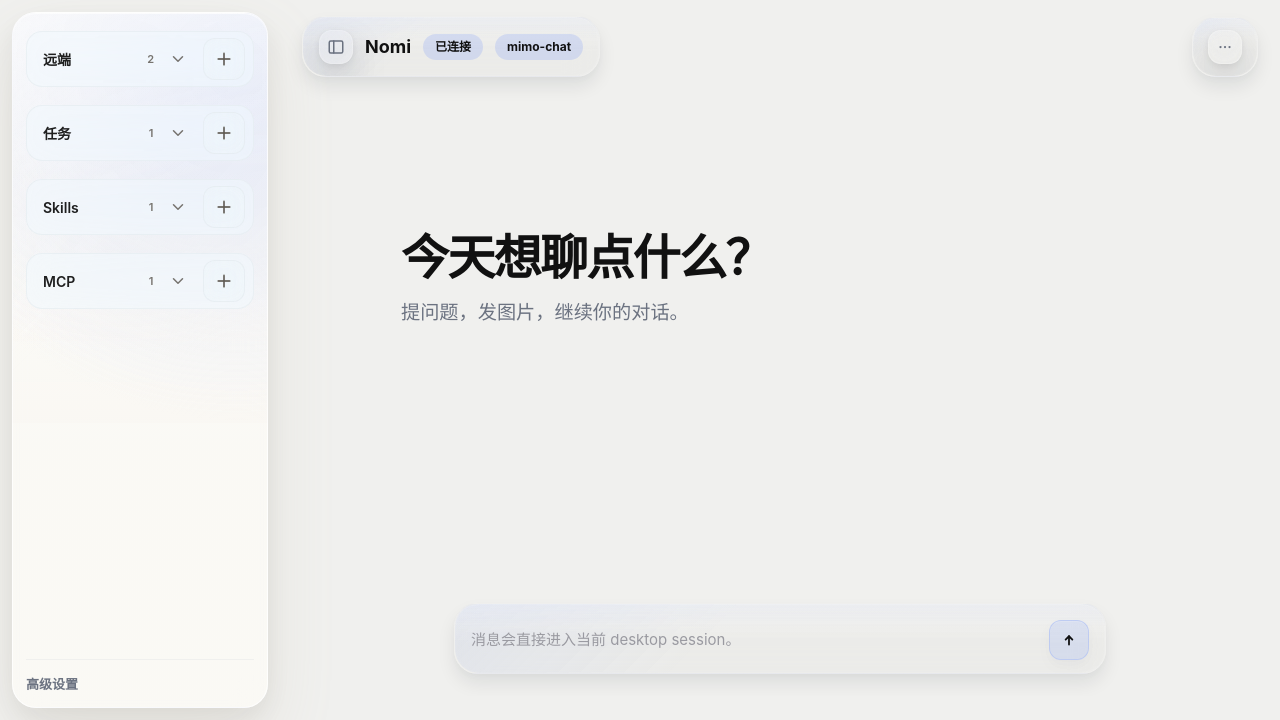
Test: MainShell HTTP resource actions › shows remote delete feedback through the unified top notification
Click the button "远端 2": (114, 59) [33,38,195,80]
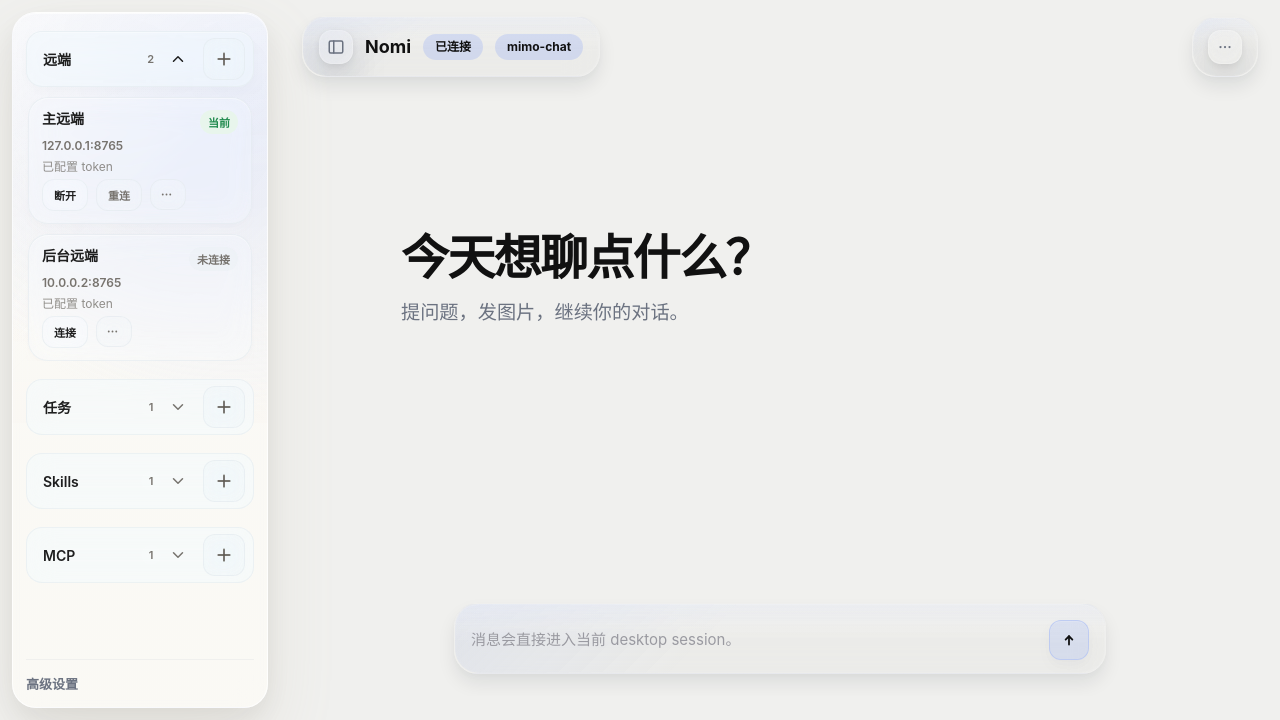
Result: the button "后台远端 未连接 10.0.0.2:8765 已配置 token 连接" is shown at [28,234,252,361]
Click the 2nd button named "更多操作": (114, 332) [96,316,132,347]
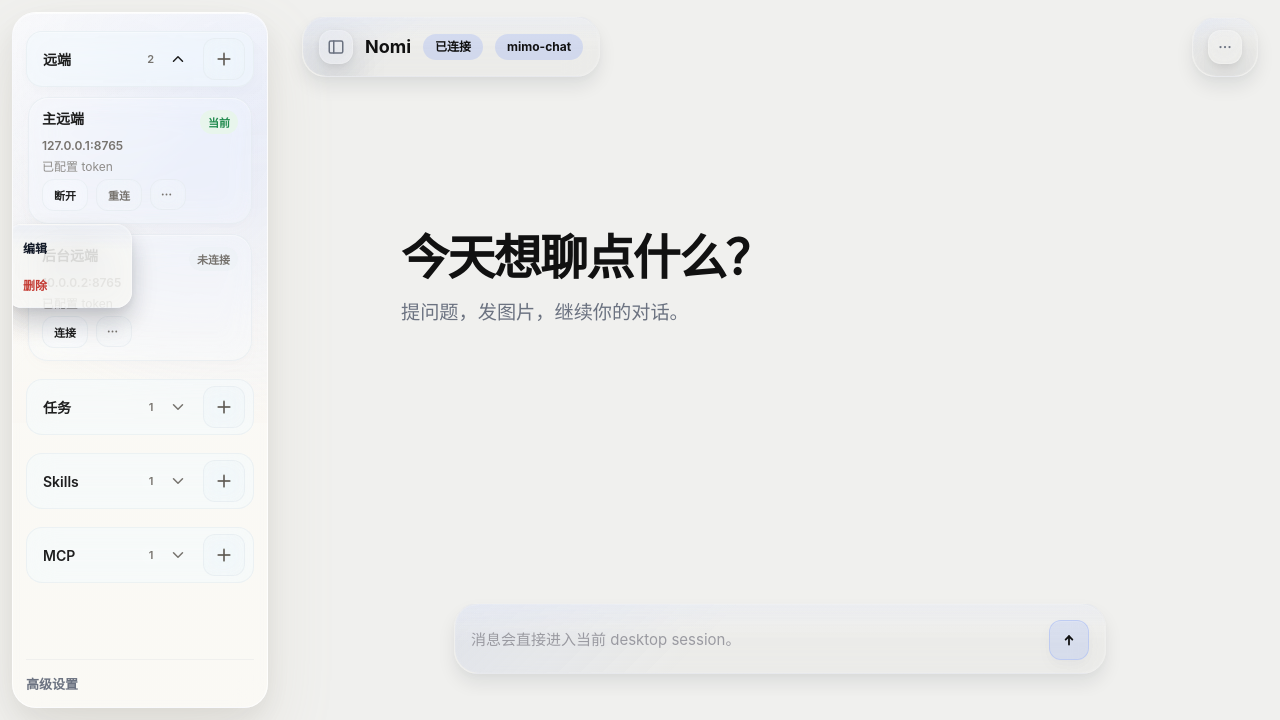
Click the button "删除": (69, 284) [13,268,125,301]
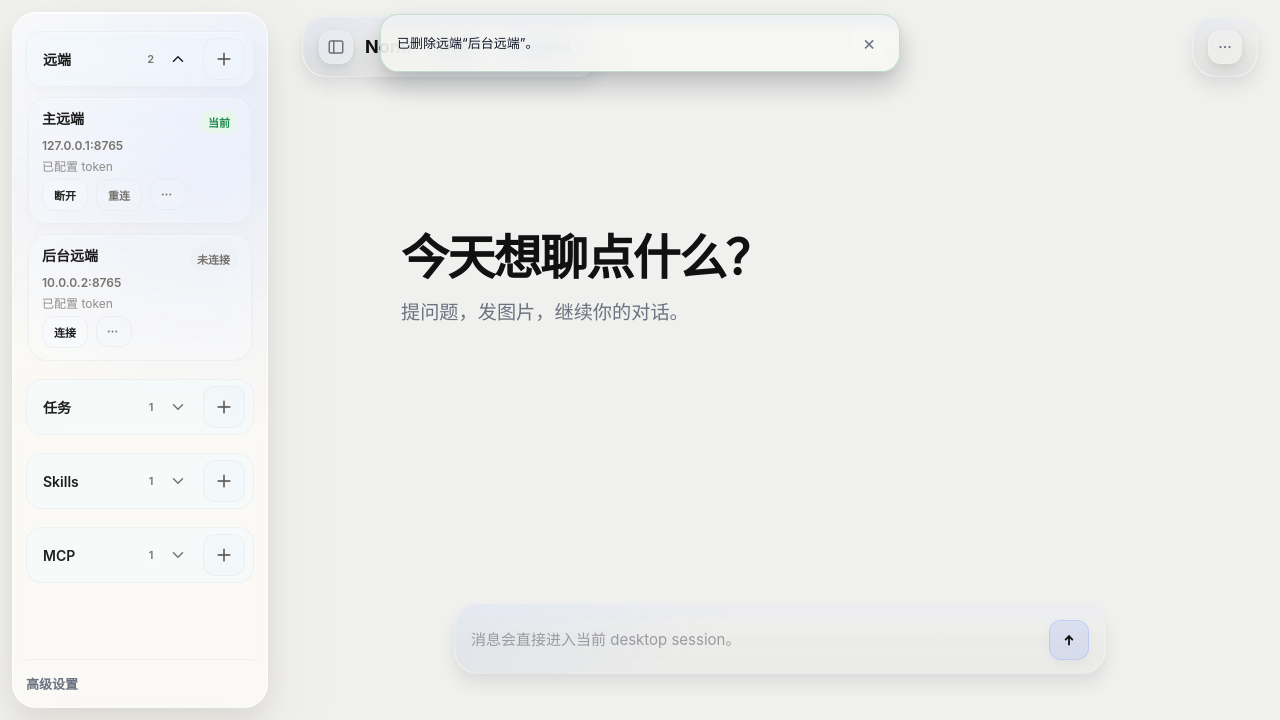
Result: the message shows "已删除远端“后台远端”。" at [397,34,841,52]
